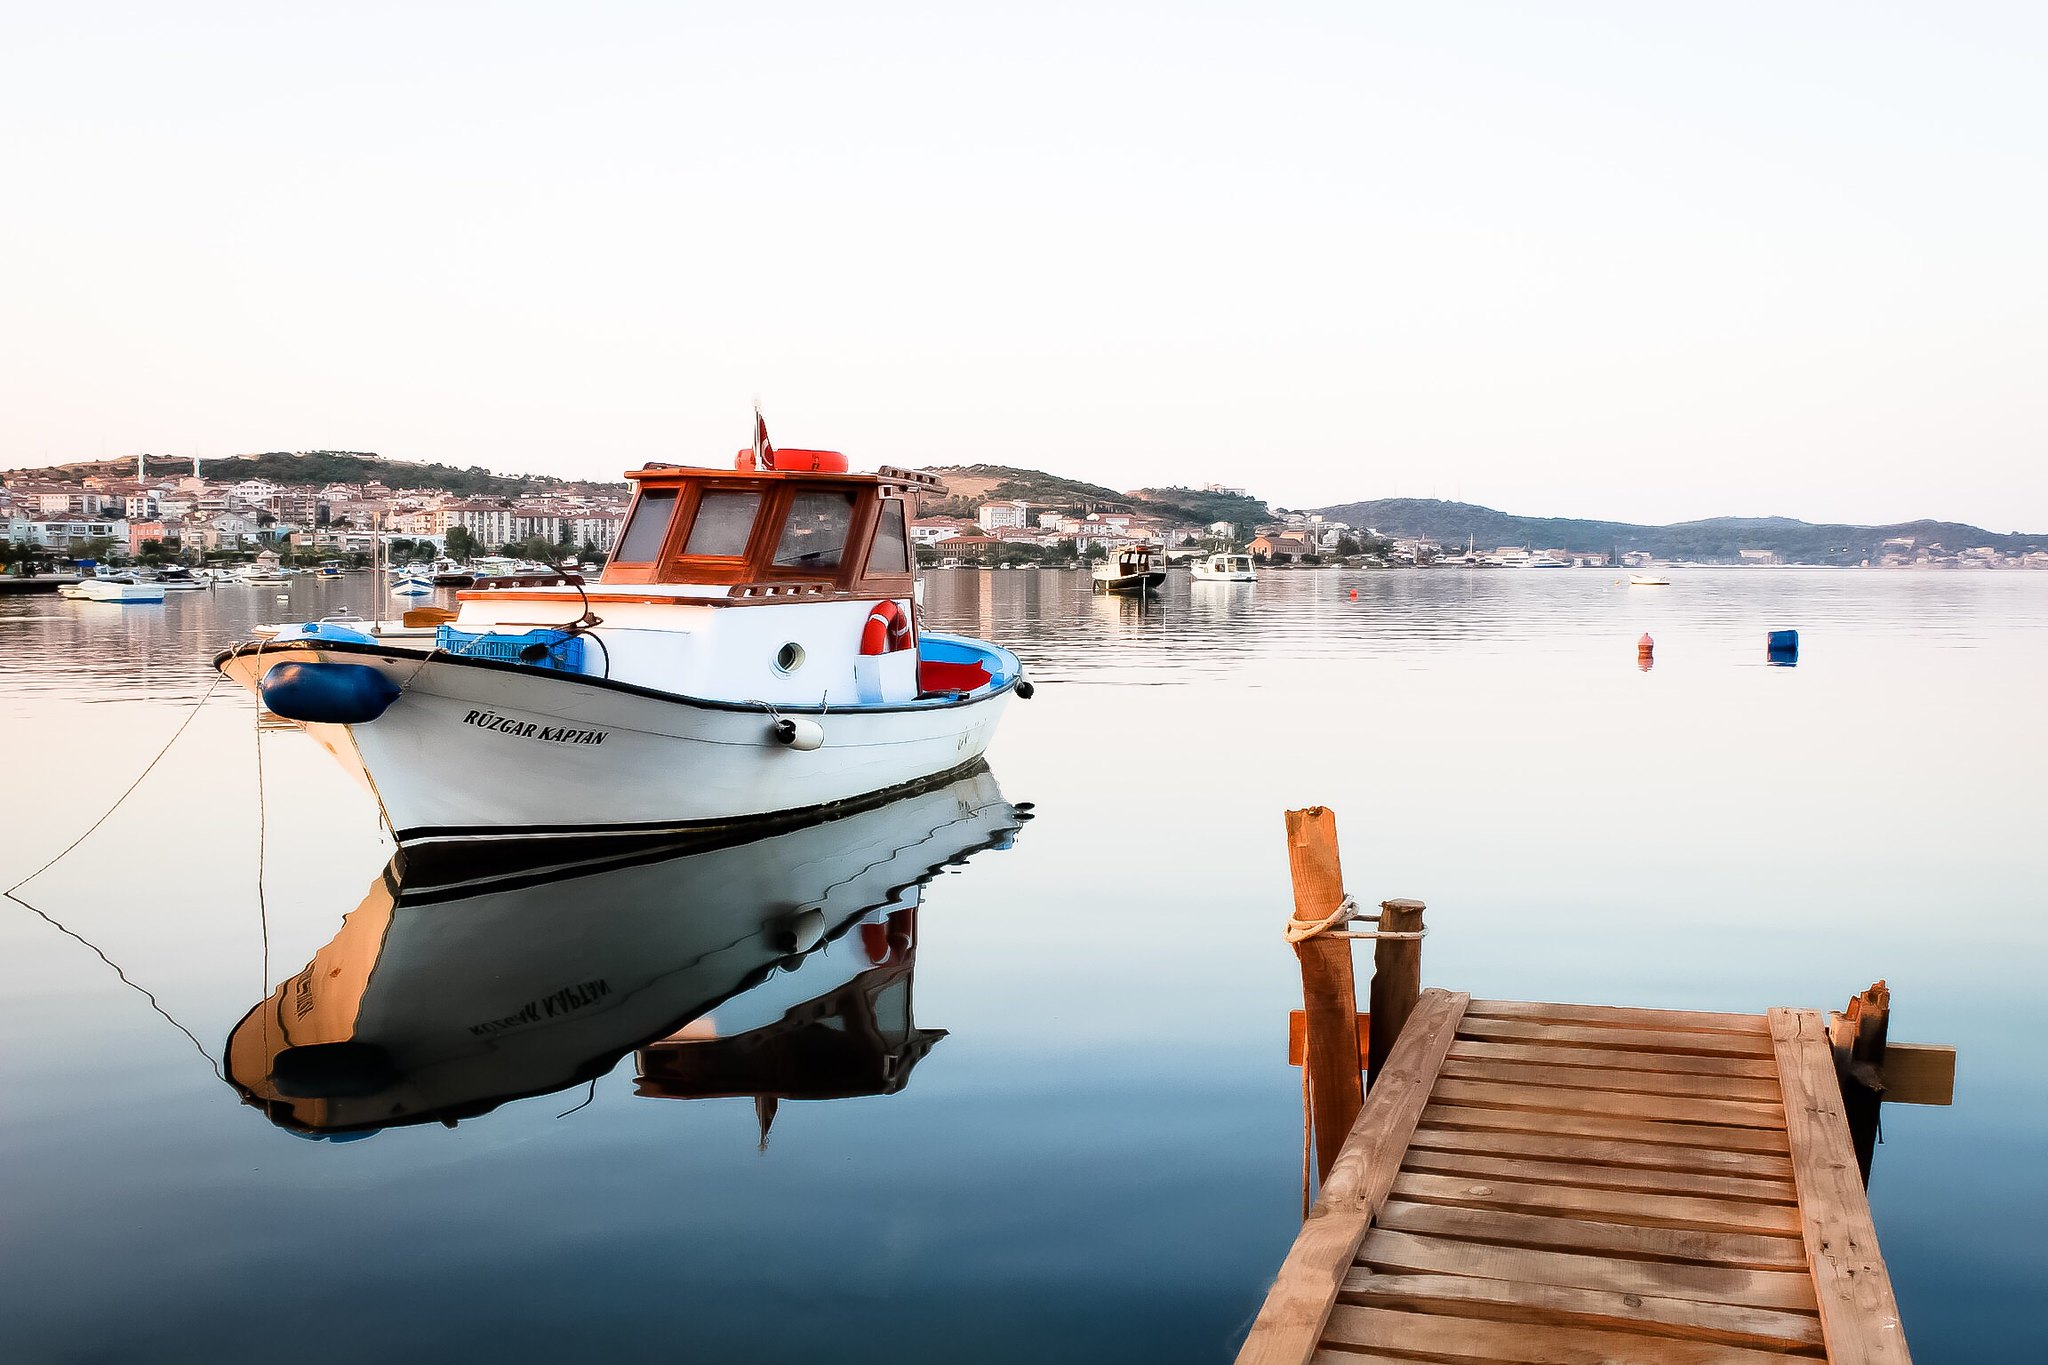boat: (227, 459, 1073, 853), (1093, 539, 1180, 612)
